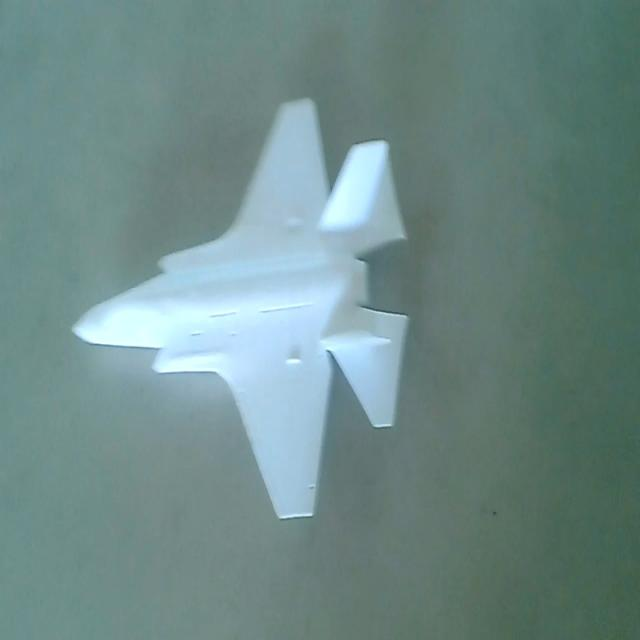Jet: (67, 97, 413, 531)
